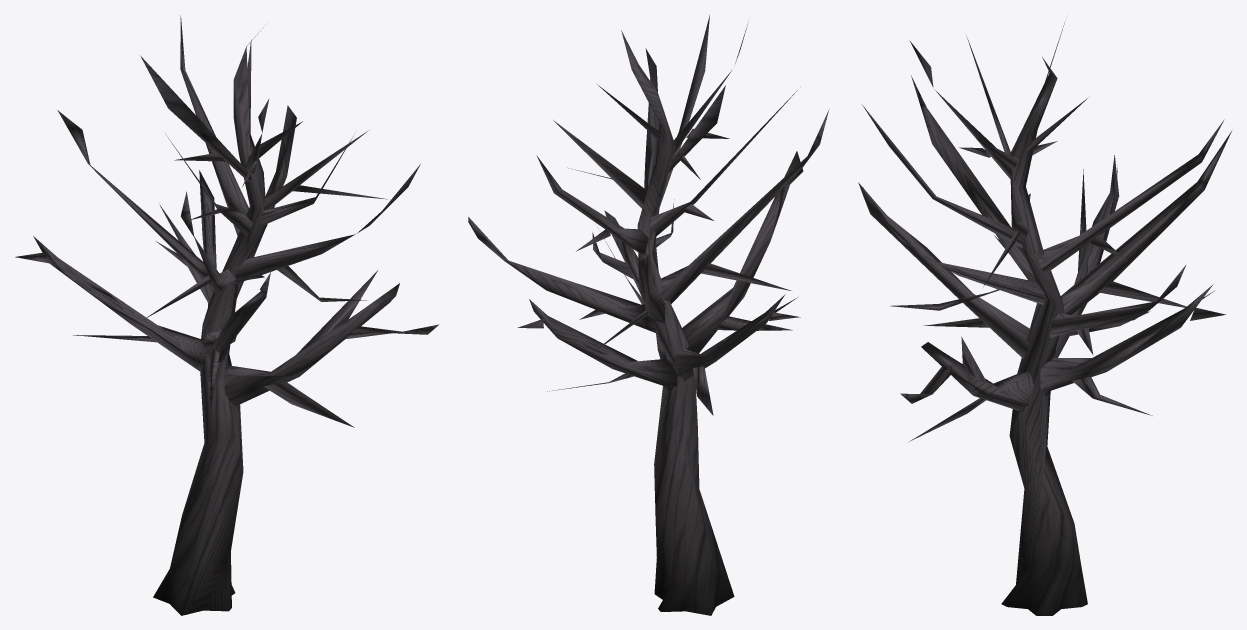
Rendered from DeadTree_1.low.gltf.
3 views of the same model, side by side, from view 1: azimuth 30°, elevation 25°; view 2: azimuth 150°, elevation 25°; view 3: azimuth 270°, elevation 25° (orthographic). The views are drawn at different scales.
Parts seen in each view (by area): view 1: DeadTree_1; view 2: DeadTree_1; view 3: DeadTree_1.
Part boxes in pixels (left/top/right/bottom): DeadTree_1: left=15, top=15, right=439, bottom=615; DeadTree_1: left=468, top=15, right=829, bottom=615; DeadTree_1: left=858, top=22, right=1231, bottom=615.
Size of the model in its own units: 5.62 by 9.5 by 5.56.
1 material, 1 textured.
